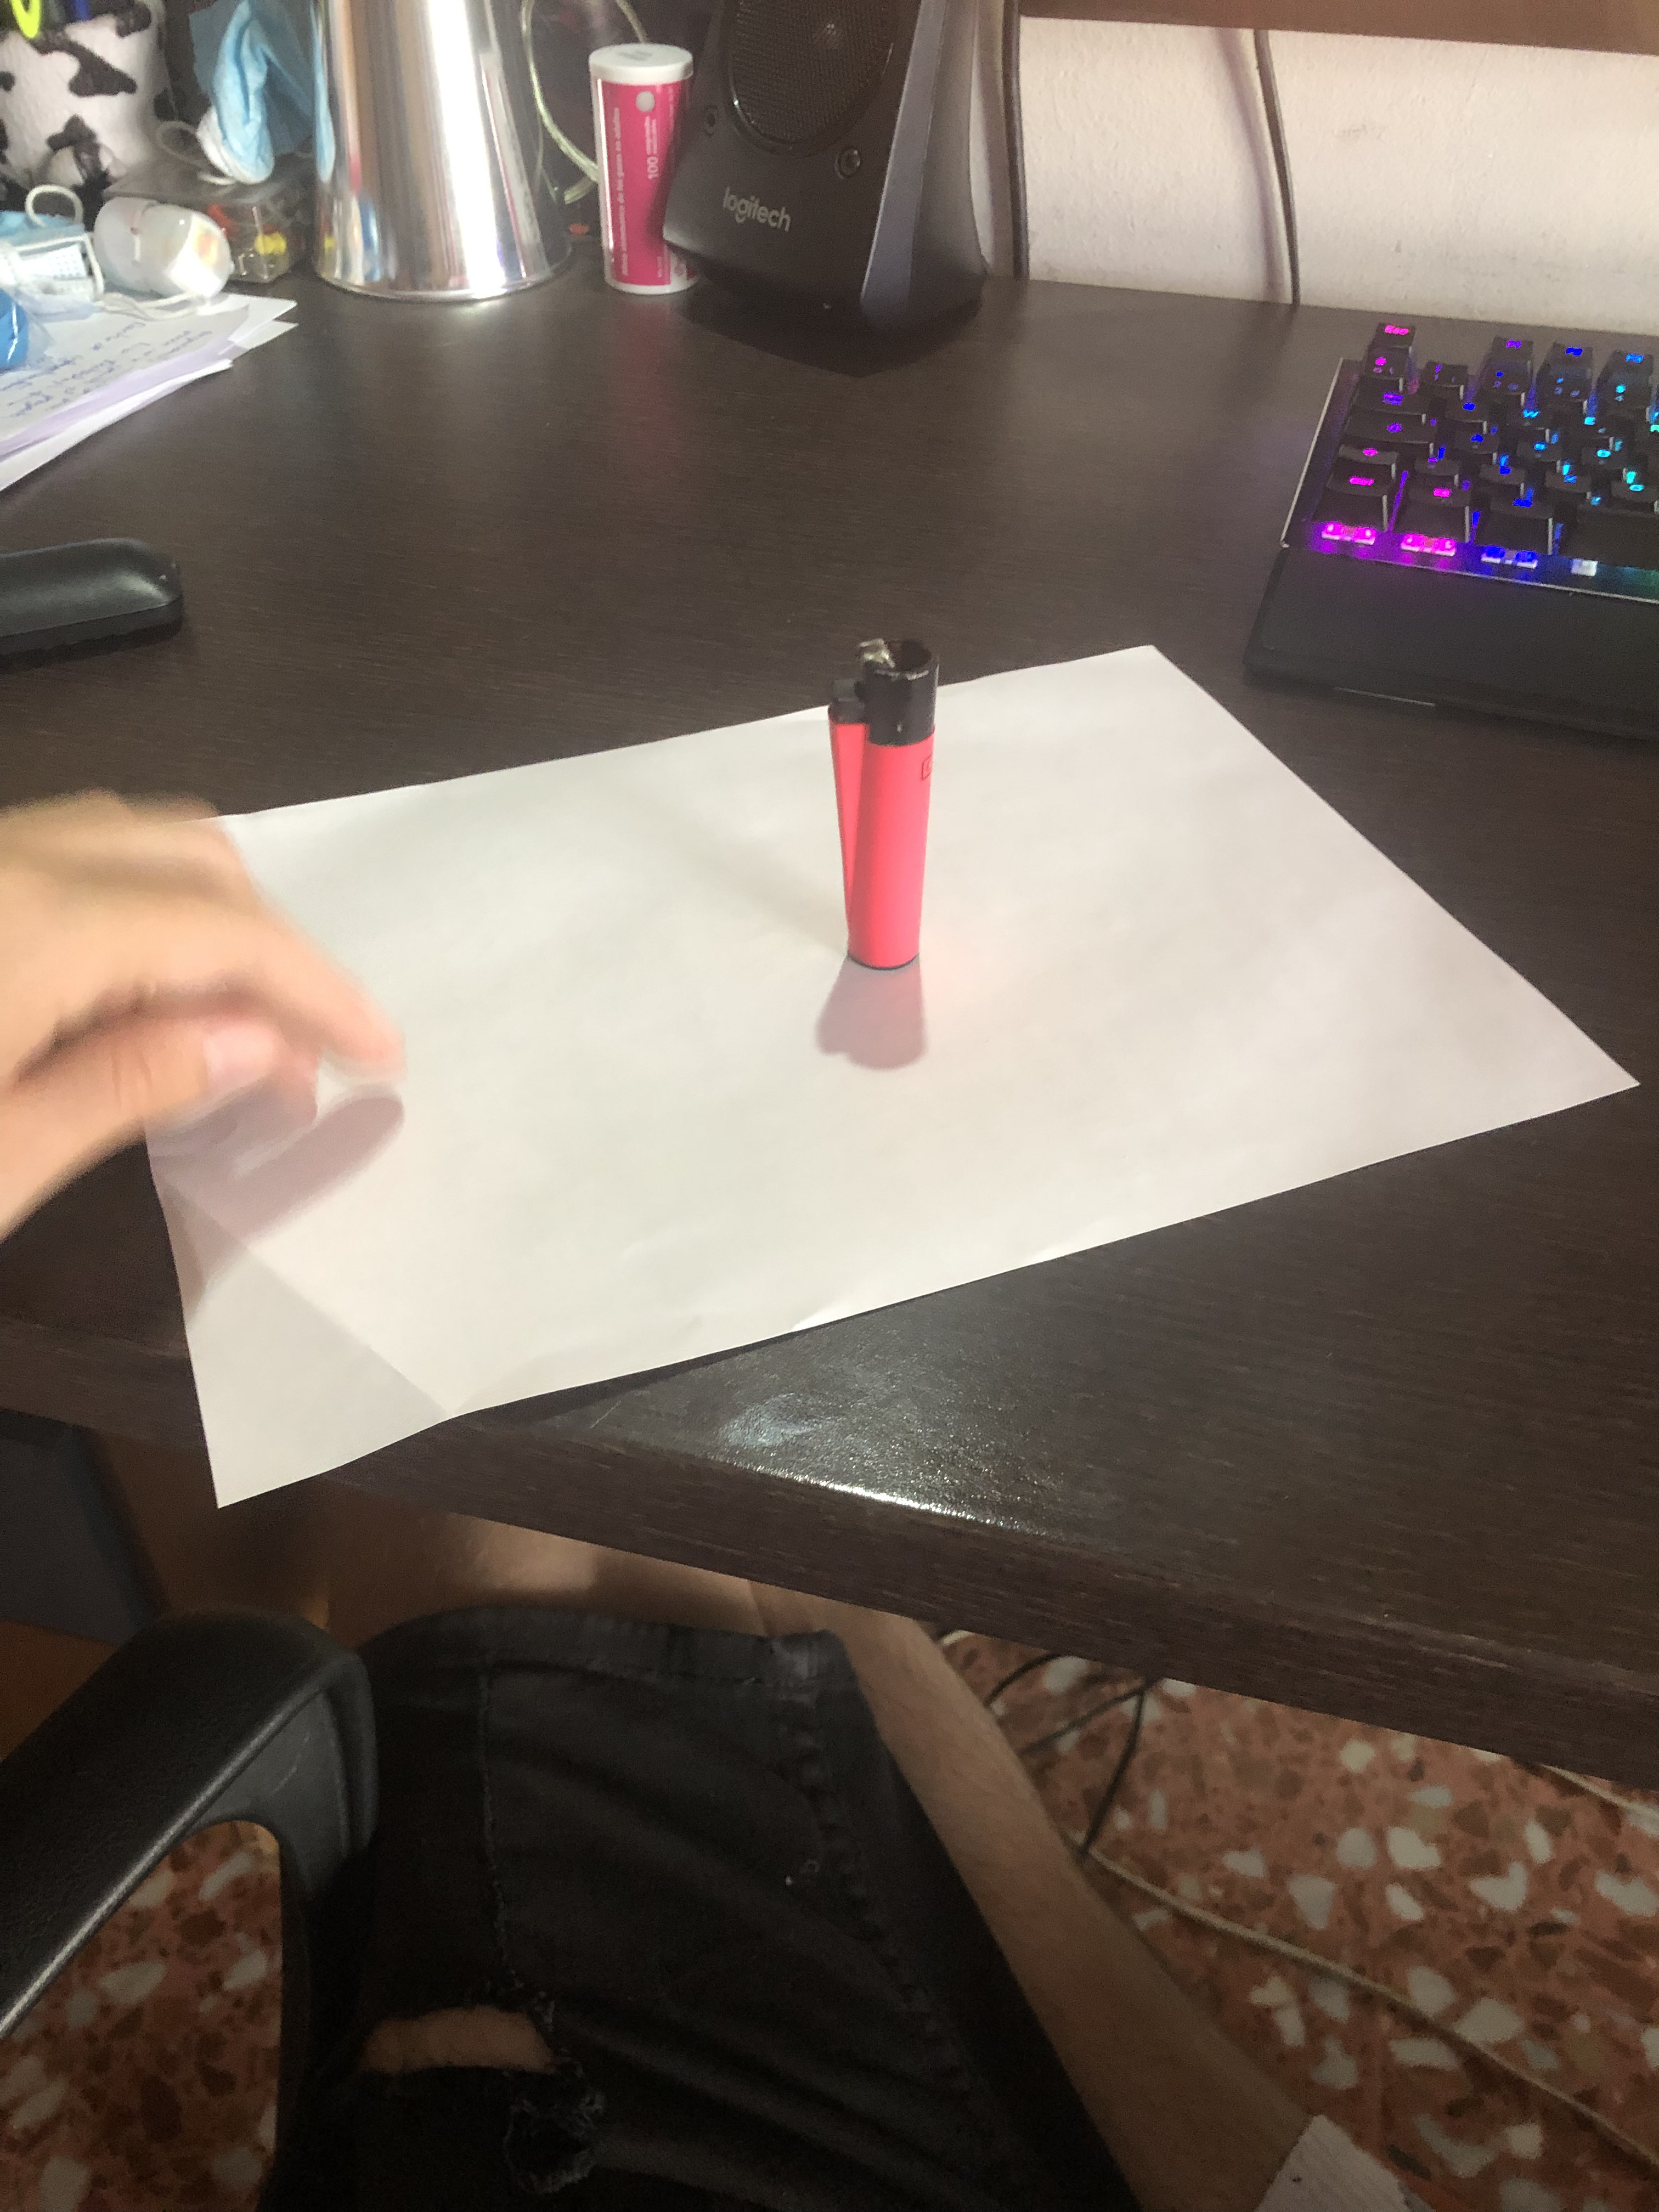Mechero: (833, 613, 945, 991)
